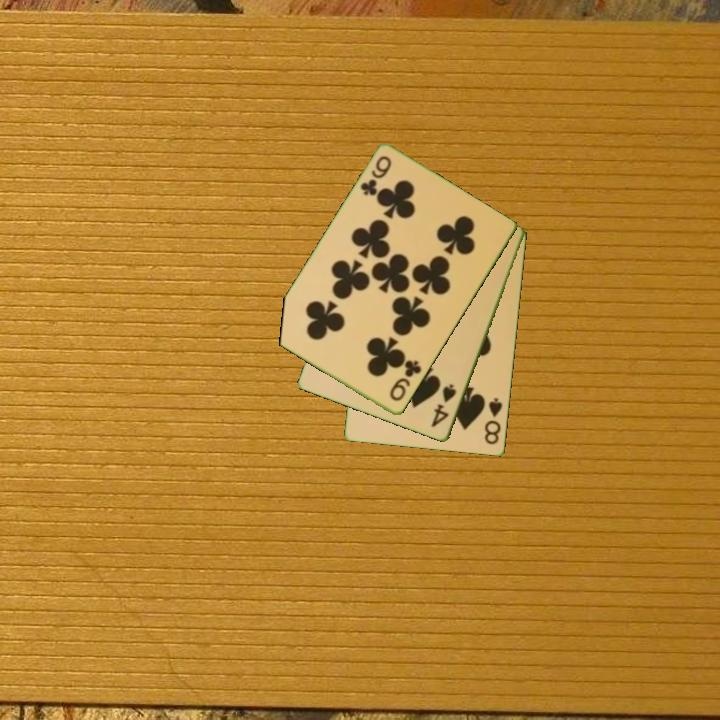4s: (428, 381, 459, 431)
8s: (481, 395, 505, 447)
9c: (386, 357, 425, 404), (357, 152, 395, 199)
